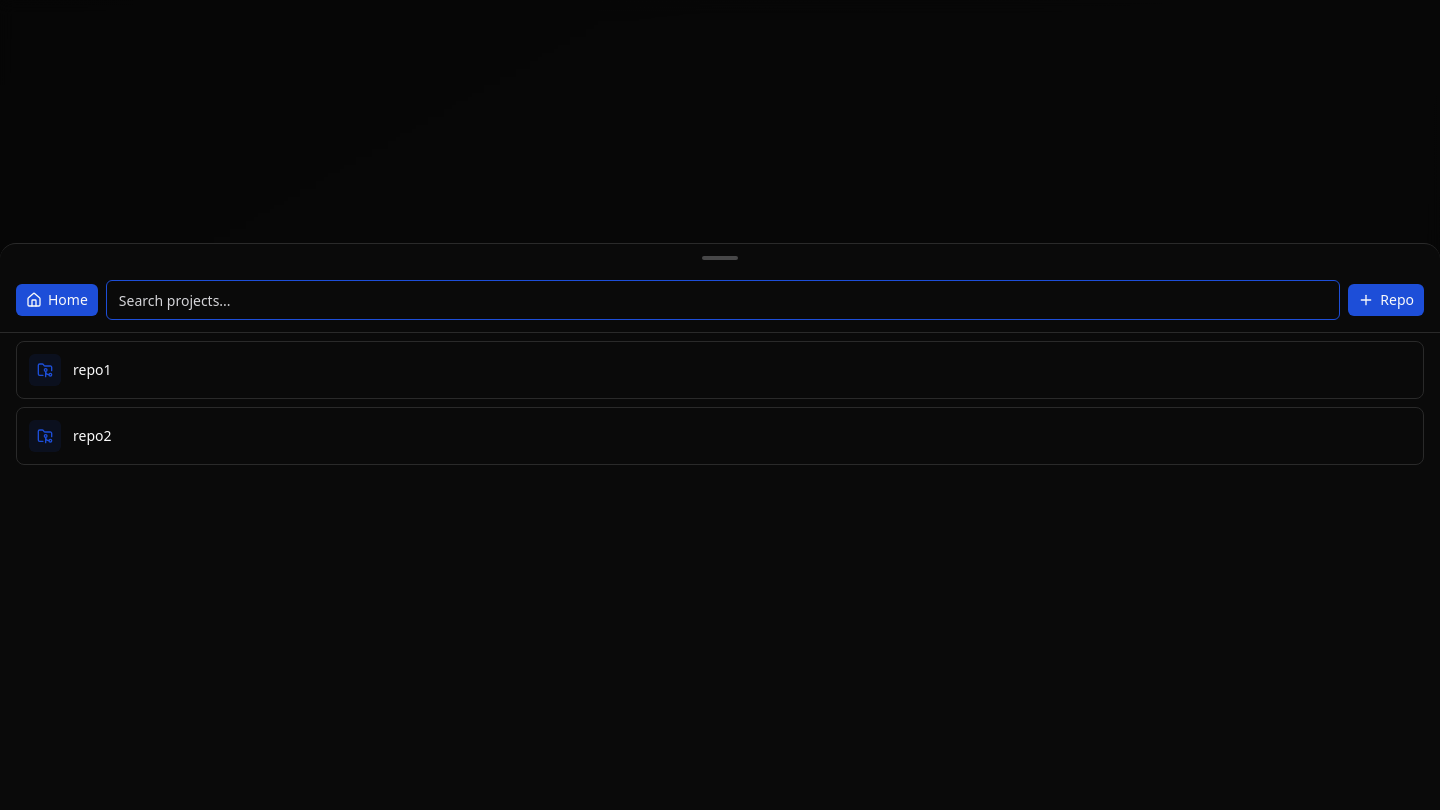
Scenario: RepoQuickSwitchSheet › renders repo list and filters on search
Expected: the text "repo1" is shown, [73, 360, 112, 379]
Expected: the text "repo2" is shown, [73, 426, 112, 445]
Type "repo1" into the field with placeholder "Search projects..." at (723, 300), box [106, 280, 1340, 320]
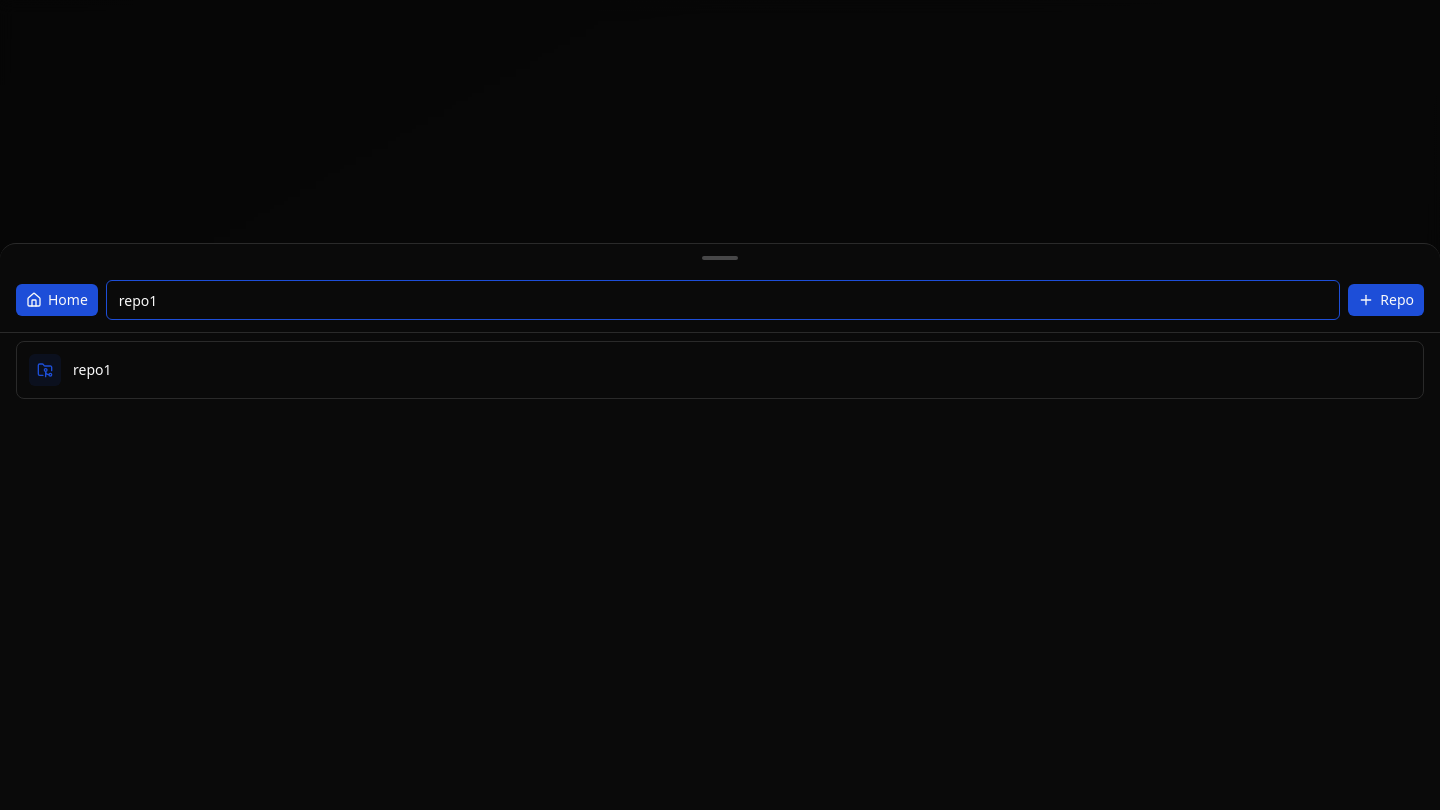
Expected: the text "repo1" is shown, [73, 360, 112, 379]
Expected: the button "repo2" is gone
